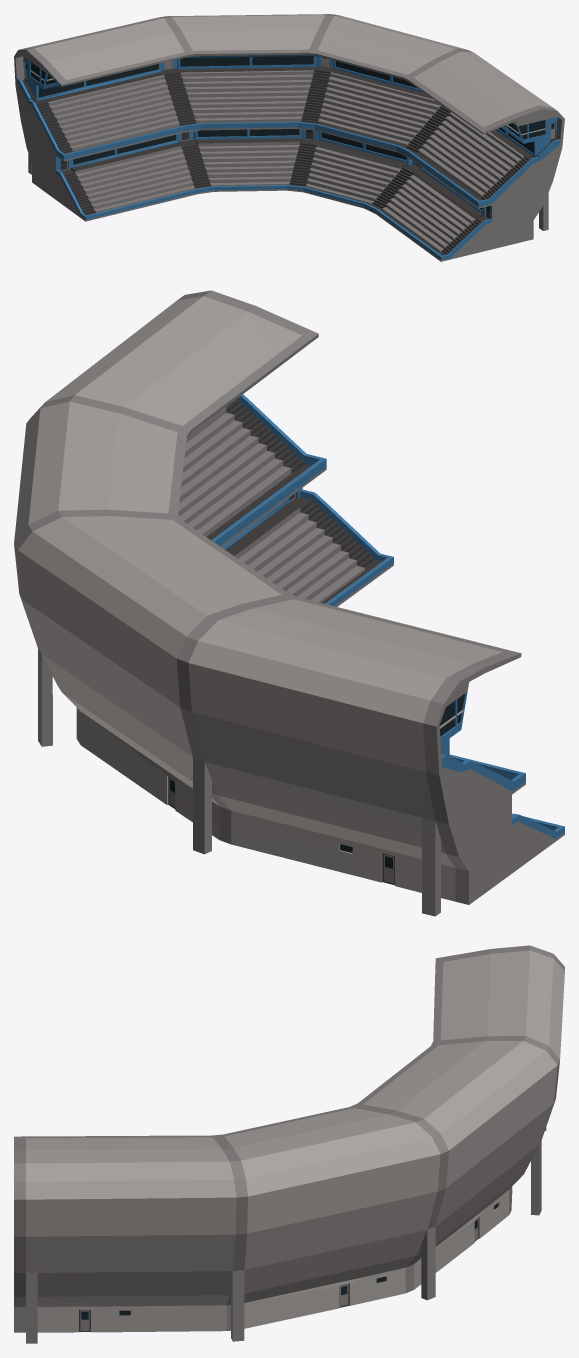
The model's file is tribune-curve-double.glb.
3 renders of one model, top to bottom at view 1: azimuth 30°, elevation 25°; view 2: azimuth 150°, elevation 25°; view 3: azimuth 270°, elevation 25°, orthographic. The views are drawn at different scales.
Visible parts, largest first — view 1: tribune-curve-double; view 2: tribune-curve-double; view 3: tribune-curve-double.
Part boxes in pixels (left/top/right/bottom): tribune-curve-double: left=14, top=14, right=564, bottom=261; tribune-curve-double: left=14, top=290, right=564, bottom=916; tribune-curve-double: left=14, top=945, right=564, bottom=1343.
Size of the model in its own units: 46.5 by 16.34 by 46.5.
Materials: 1 (1 with a texture image).
